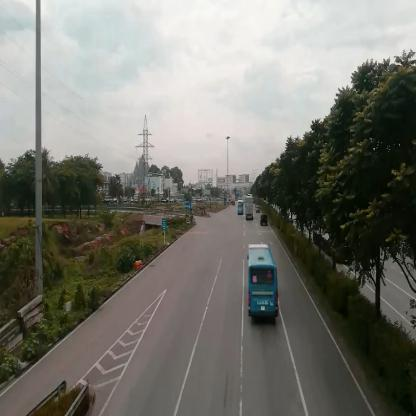bus: (249, 246, 280, 319), (238, 201, 244, 218)
car: (262, 216, 269, 228), (257, 206, 262, 212)
truck: (246, 197, 255, 218)
